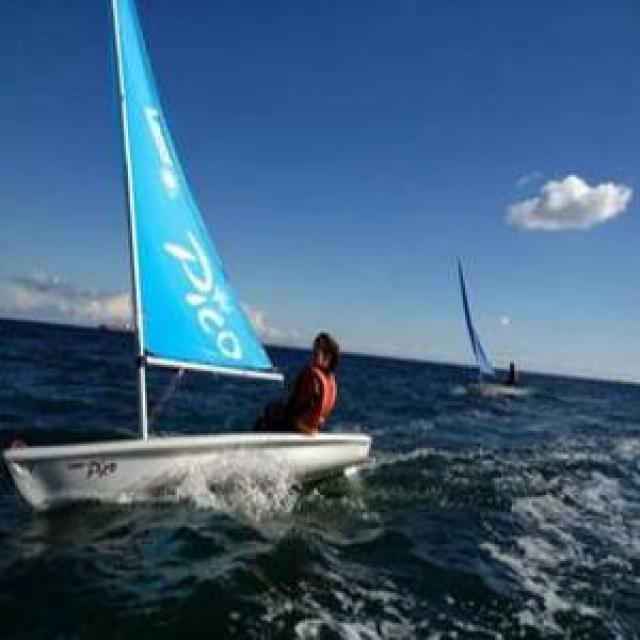sailboat: (12, 3, 378, 546), (427, 253, 546, 408)
